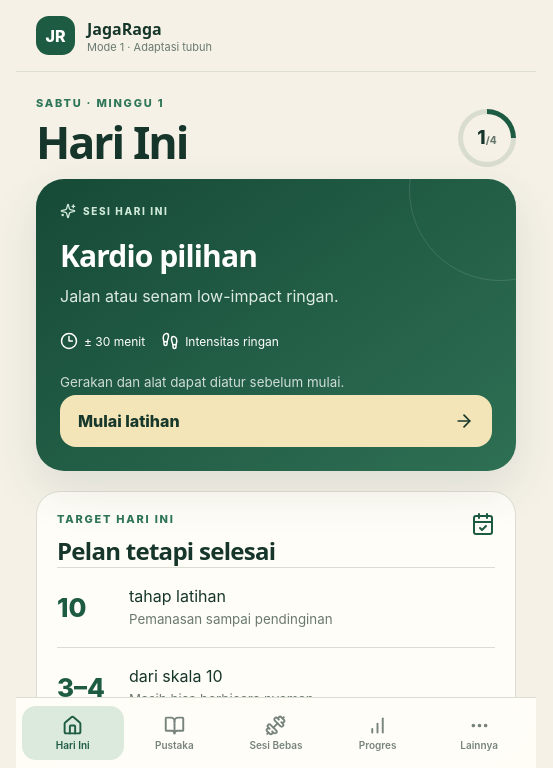
opens the sixty-item local catalog from the app shell
Click the button "Pustaka" at (174, 733), box [124,706,225,760]
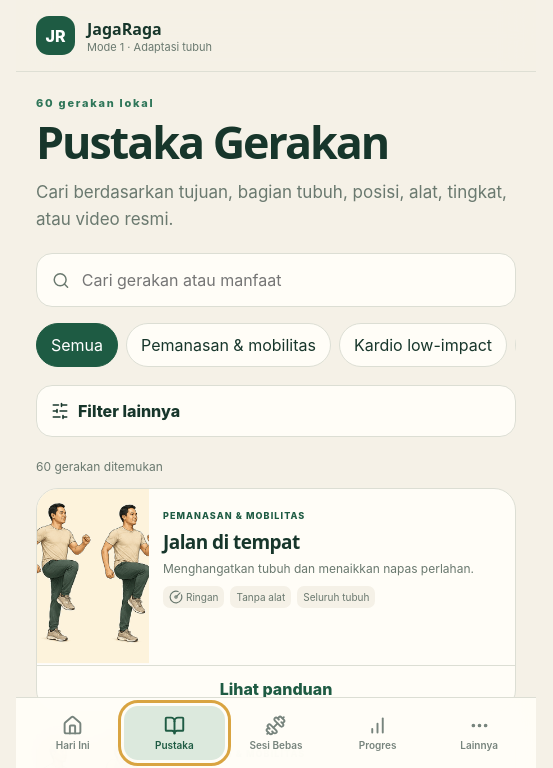
Expected: the text "60 gerakan lokal" is shown, [36,96,154,110]
